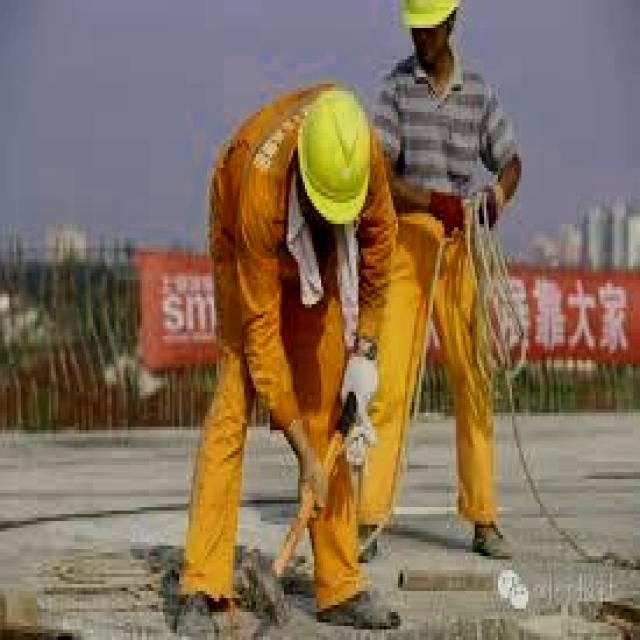face_nomask: (412, 24, 442, 70)
hand_glove: (340, 346, 384, 430), (426, 182, 461, 241), (475, 171, 507, 231)
hand_noglove: (286, 430, 333, 521)
head_helmet: (298, 84, 370, 224), (400, 3, 470, 24)
person: (205, 73, 393, 633), (382, 4, 526, 549)
shoes: (313, 575, 404, 635), (169, 570, 222, 640), (472, 512, 508, 565)
